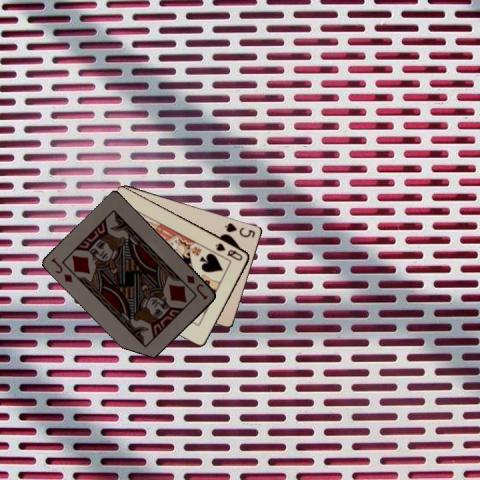5s: (222, 220, 257, 239)
Jd: (48, 255, 75, 284), (184, 272, 209, 301)
Qs: (213, 240, 244, 262)
